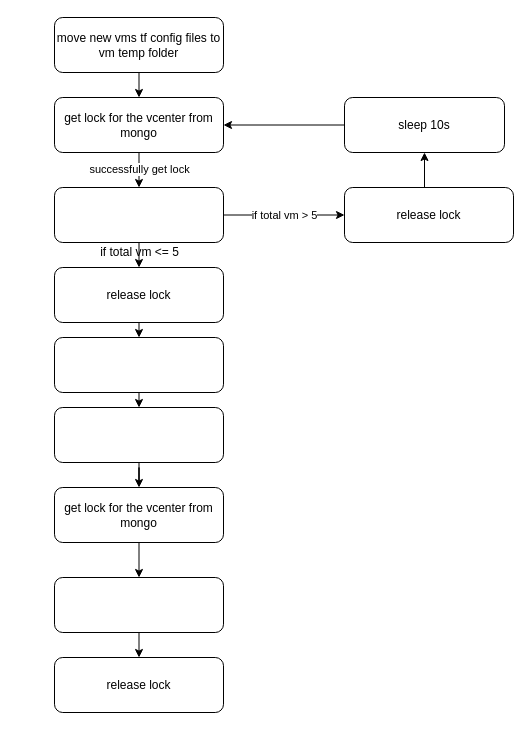
Image size: 531x730. Some labels were removed from this diagram. Each missing label, with the centre of its shape:
add oneux_vm_cloning_paralle.running_vm_clone: the point at 139,214
move tf config files to executing folder: the point at 139,364
run tf: the point at 139,434
subtract oneux_vm_cloning_paralle.running_vm_clone: the point at 139,604
